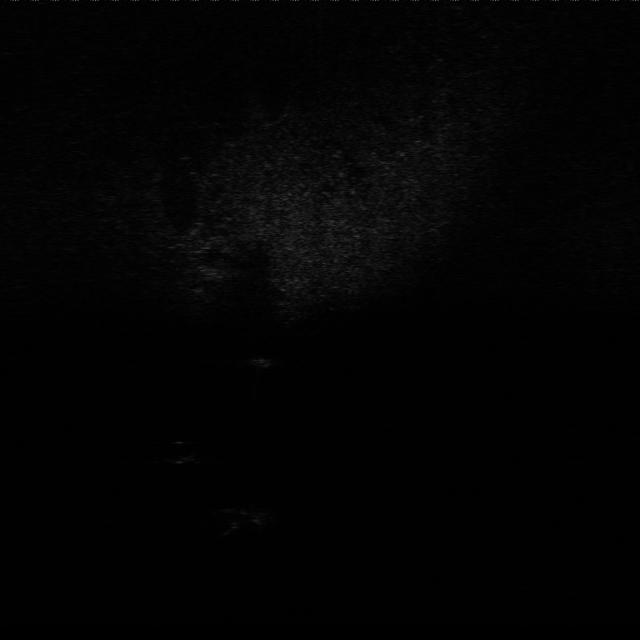ball: (164, 438, 200, 465)
circle cage: (214, 501, 278, 545)
cube: (246, 352, 276, 376)
